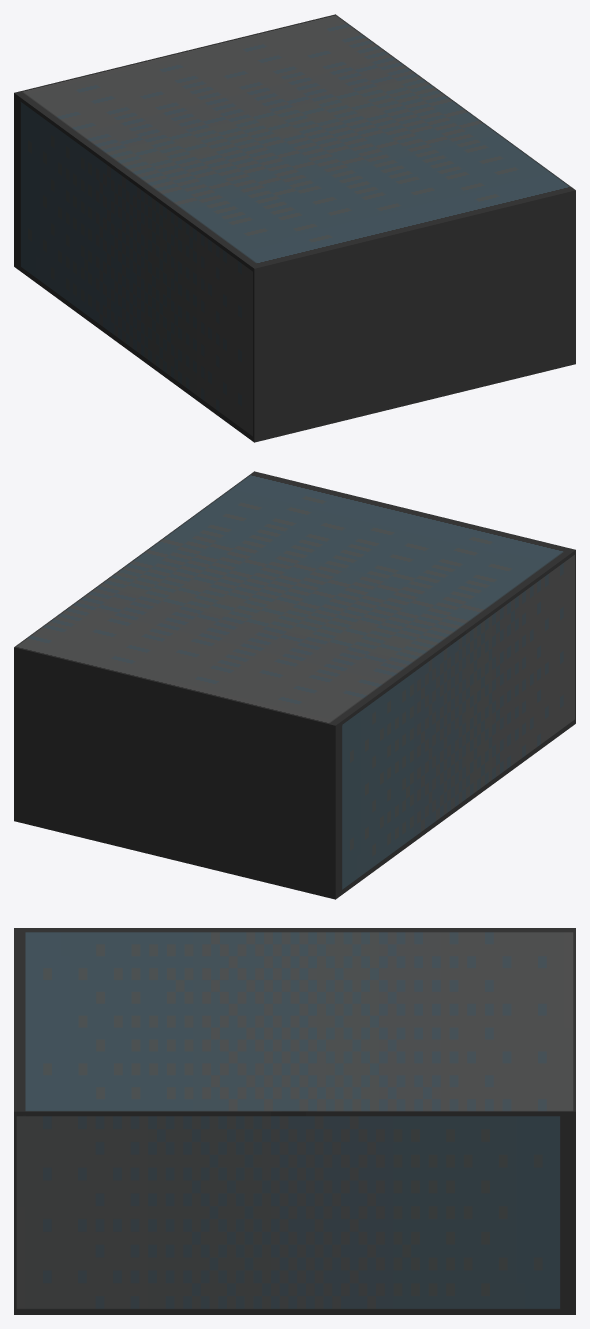
The model's file is LeverBase.glb.
3 views of the same model, one above another, from view 1: azimuth 30°, elevation 25°; view 2: azimuth 150°, elevation 25°; view 3: azimuth 270°, elevation 25° (orthographic). The views are drawn at different scales.
Parts seen in each view (by area): view 1: Cube; view 2: Cube; view 3: Cube.
Boxes of the visible parts, x1,y1,x2,y2 form: Cube: (14, 14, 575, 442); Cube: (14, 471, 575, 899); Cube: (14, 928, 575, 1314).
Bounding box in the file's own units: 2 × 1.03 × 2.59.
Materials: 1 (1 with a texture image).
